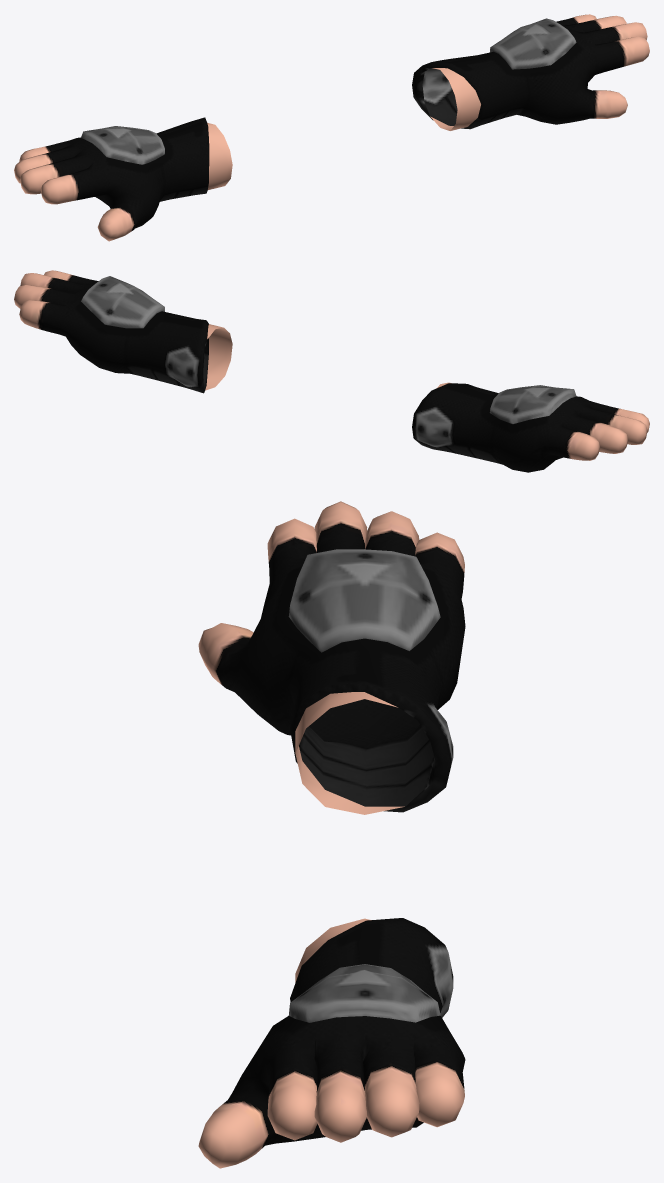
The picture shows the model from 3 angles, top to bottom: view 1: azimuth 30°, elevation 25°; view 2: azimuth 150°, elevation 25°; view 3: azimuth 270°, elevation 25°; orthographic projection. The views are drawn at different scales.
Visible parts, largest first — view 1: model_0_submesh_0; view 2: model_0_submesh_0; view 3: model_0_submesh_0.
Part boxes in pixels (x1,y1,x2,y2): model_0_submesh_0: [14, 14, 649, 241]; model_0_submesh_0: [14, 270, 649, 472]; model_0_submesh_0: [198, 501, 465, 1168].
Bounding box in the file's own units: 1.29 × 0.1581 × 0.2393.
